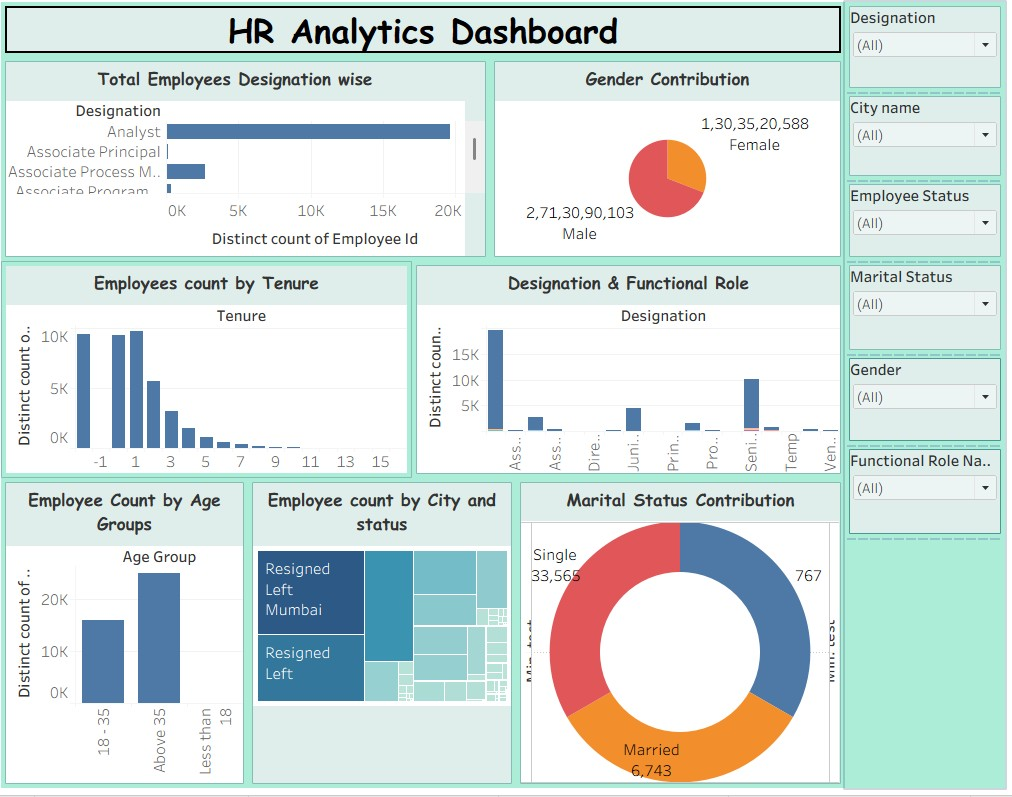

What the dashboard file says about the page in this screenshot:
{"tool":"tableau","page":{"name":"Dashboard 1","canvas":[1000,1000],"units":"permille","ordinal":0},"visuals":[{"type":"text","box":[7.8,10,827.5,68.6]},{"type":"filter","title":"Total Employees Designation wise","param":"[federated.1dr1wkv0x8e83q16ght8w1mxmb5f].[none:Designation:nk]","box":[835.3,10,156.9,112.2]},{"type":"worksheet","title":"Total Employees Designation wise","mark":"Automatic","rows":["Designation"],"cols":["employee_id"],"box":[7.8,78.6,479.4,254.4]},{"type":"worksheet","title":"Gender Contribution","mark":"Pie","box":[487.2,78.6,348.1,254.4]},{"type":"filter","title":"Employee count by City and status","param":"[federated.1dr1wkv0x8e83q16ght8w1mxmb5f].[none:City_name:nk]","box":[835.3,122.2,156.9,109.7]},{"type":"filter","title":"Employee count by City and status","param":"[federated.1dr1wkv0x8e83q16ght8w1mxmb5f].[none:employee_status:nk]","box":[835.3,231.9,156.9,101]},{"type":"worksheet","title":"Designation & Functional Role","mark":"Automatic","rows":["employee_id"],"cols":["Designation"],"box":[410.9,332.9,424.4,270.6]},{"type":"filter","title":"Marital Status Contribution","param":"[federated.1dr1wkv0x8e83q16ght8w1mxmb5f].[none:marital_status:nk]","box":[835.3,332.9,156.9,116]},{"type":"worksheet","title":"Employees count by Tenure","mark":"Automatic","rows":["employee_id"],"cols":["Calculation_1113515011868635136"],"box":[8.8,334.2,401.1,268.1]},{"type":"filter","title":"Gender Contribution","param":"[federated.1dr1wkv0x8e83q16ght8w1mxmb5f].[none:gender:nk]","box":[835.3,448.9,156.9,113.5]},{"type":"filter","title":"Designation & Functional Role","param":"[federated.1dr1wkv0x8e83q16ght8w1mxmb5f].[none:functional_role_name:nk]","box":[835.3,562.4,156.9,116]},{"type":"worksheet","title":"Employee Count by Age Groups","mark":"Automatic","rows":["employee_id"],"cols":["Calculation_1113515011920904194"],"box":[7.8,603.5,242.2,386.5]},{"type":"worksheet","title":"Employee count by City and status","mark":"Automatic","box":[250,603.5,262.7,386.5]},{"type":"worksheet","title":"Marital Status Contribution","mark":"Automatic","rows":["Calculation_1113515011921854467","Calculation_1113515011921854467"],"box":[512.7,603.5,322.6,386.5]}]}

Visuals, with their boxes on the dashboard's canvas, which has no fixed pixel size, in thousandths of its width and height (x1, y1, x2, y2). These are canvas units, not pixel positions in the 1012x797 screenshot, which may show the page scaled, cropped or inside an application window:
text: <region>8, 10, 835, 79</region>
"Total Employees Designation wise" filter: <region>835, 10, 992, 122</region>
"Total Employees Designation wise" worksheet: <region>8, 79, 487, 333</region>
"Gender Contribution" worksheet (Pie marks): <region>487, 79, 835, 333</region>
"Employee count by City and status" filter: <region>835, 122, 992, 232</region>
"Employee count by City and status" filter: <region>835, 232, 992, 333</region>
"Designation & Functional Role" worksheet: <region>411, 333, 835, 604</region>
"Marital Status Contribution" filter: <region>835, 333, 992, 449</region>
"Employees count by Tenure" worksheet: <region>9, 334, 410, 602</region>
"Gender Contribution" filter: <region>835, 449, 992, 562</region>
"Designation & Functional Role" filter: <region>835, 562, 992, 678</region>
"Employee Count by Age Groups" worksheet: <region>8, 604, 250, 990</region>
"Employee count by City and status" worksheet: <region>250, 604, 513, 990</region>
"Marital Status Contribution" worksheet: <region>513, 604, 835, 990</region>
